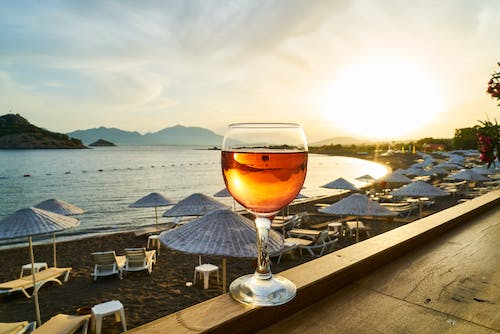alcohol: (220, 121, 309, 308)
